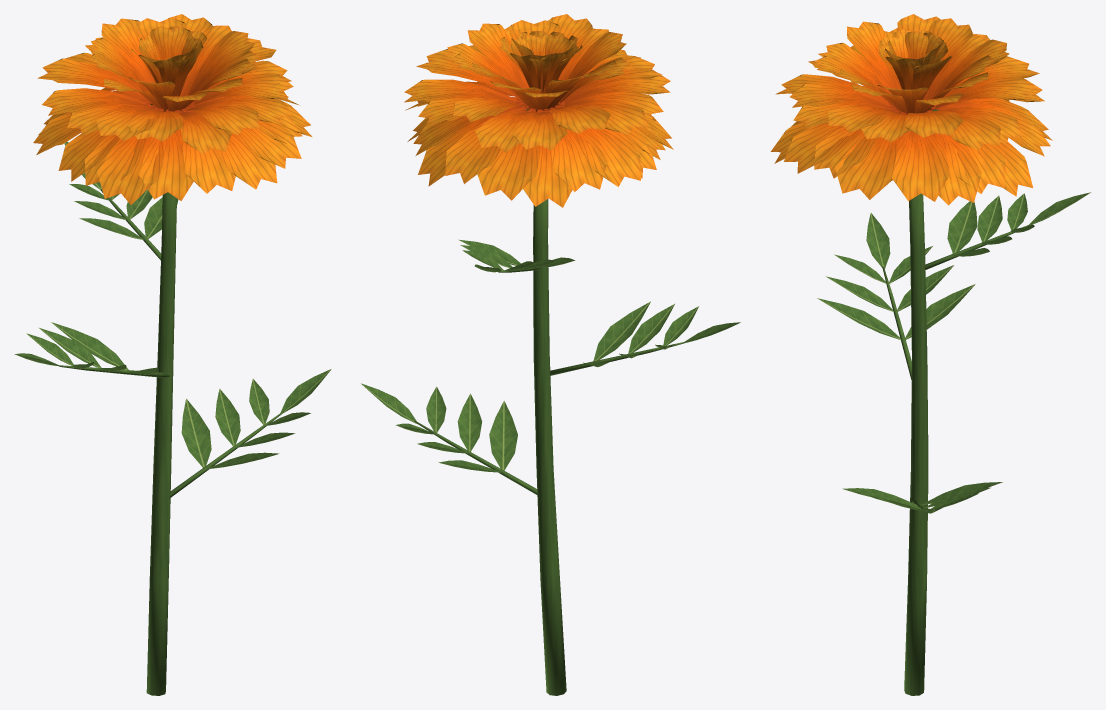
Rendered from flor_cempasuchil.gltf.
The picture shows the model from 3 angles, left to right: view 1: azimuth 30°, elevation 25°; view 2: azimuth 150°, elevation 25°; view 3: azimuth 270°, elevation 25°; orthographic projection.
Visible parts, largest first — view 1: petalos, peciolos_hojas, tallo; view 2: petalos, peciolos_hojas, tallo; view 3: petalos, peciolos_hojas, tallo.
Part boxes in pixels (bbox=[...]): petalos: bbox=[33, 14, 312, 204]; peciolos_hojas: bbox=[14, 141, 331, 498]; tallo: bbox=[146, 104, 176, 695]; petalos: bbox=[404, 14, 673, 207]; peciolos_hojas: bbox=[361, 239, 740, 494]; tallo: bbox=[525, 106, 566, 695]; petalos: bbox=[770, 14, 1052, 205]; peciolos_hojas: bbox=[817, 192, 1090, 513]; tallo: bbox=[899, 109, 939, 695].
Bounding box in the file's own units: 0.1397 × 0.2492 × 0.1099.
3 materials, 3 textured.
